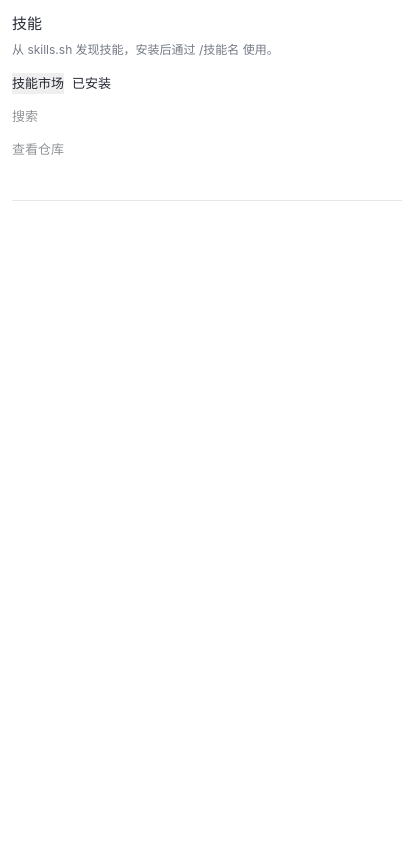
Test: skill manager › keeps the installed version visible after a market check fails
This screenshot has width=414, height=856.
Click the button "已安装".
click(92, 84)  # box top-left (72, 73), bottom-right (111, 94)
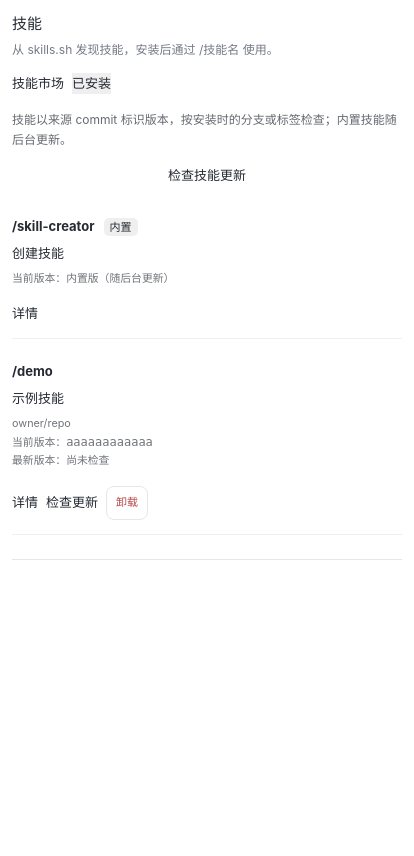
Click the button with aria-label "检查 demo 更新".
click(72, 503)  # box top-left (46, 492), bottom-right (98, 513)
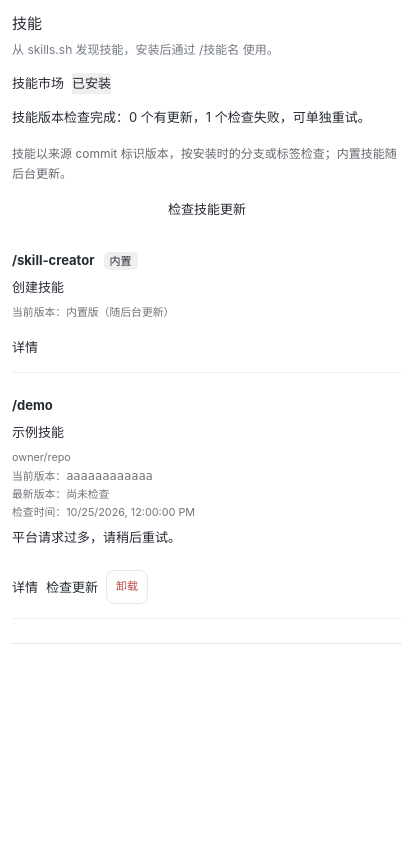
Result: the text "aaaaaaaaaaaa" is shown at top-left (66, 469), bottom-right (153, 483)
Result: the text "平台请求过多，请稍后重试。" is shown at top-left (12, 529), bottom-right (181, 545)
